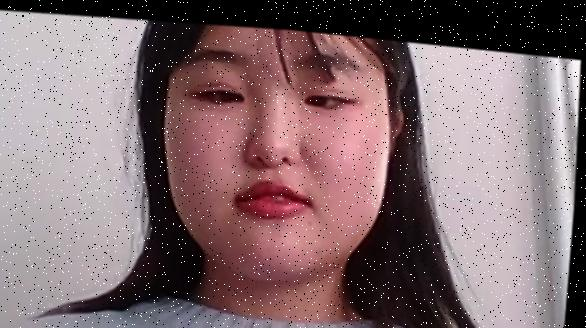eye: (224, 86, 241, 102), (310, 87, 326, 101)
iris: (205, 83, 247, 100), (305, 85, 343, 102)
